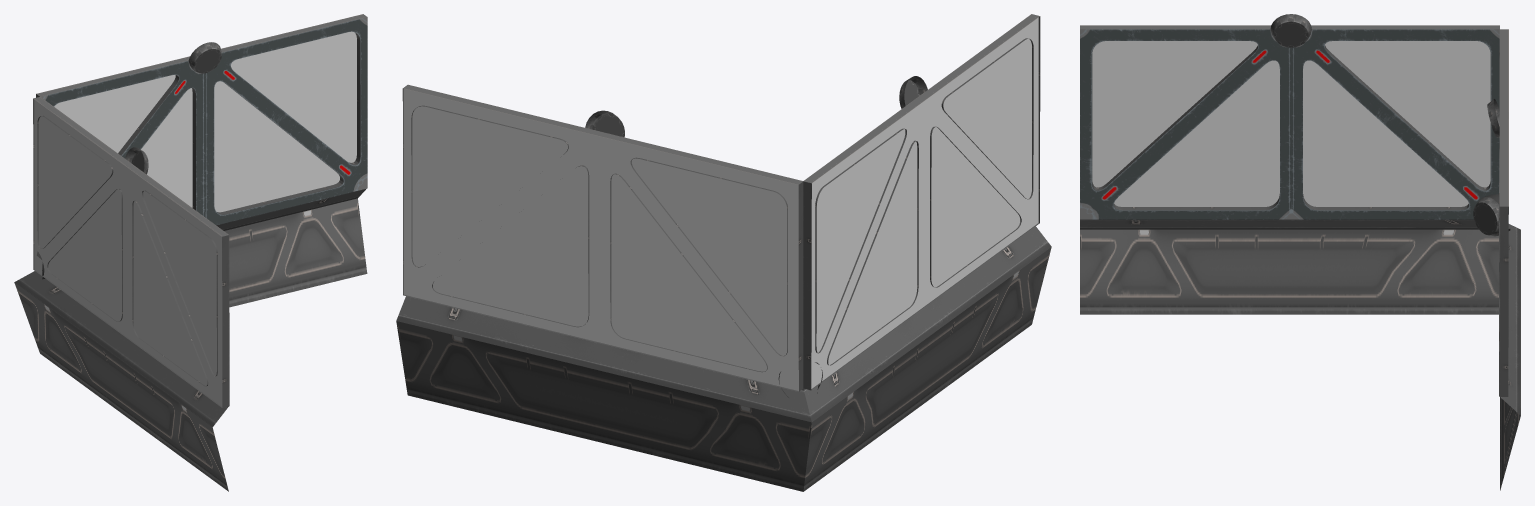
File: WallWindow_Corner_Square_Inner.gltf
3 renders of one model, left to right at view 1: azimuth 30°, elevation 25°; view 2: azimuth 150°, elevation 25°; view 3: azimuth 270°, elevation 25°, orthographic. The views are drawn at different scales.
Visible parts, largest first — view 1: WallWindow_Corner_Square_Inner; view 2: WallWindow_Corner_Square_Inner; view 3: WallWindow_Corner_Square_Inner.
Boxes of the visible parts, box(x1,y1,x2,y2) form: WallWindow_Corner_Square_Inner: box(14, 14, 367, 491); WallWindow_Corner_Square_Inner: box(396, 14, 1051, 491); WallWindow_Corner_Square_Inner: box(1080, 14, 1520, 490).
Size of the model in its own units: 4.2 by 3.19 by 4.2.
Materials: 4 (3 with a texture image).
